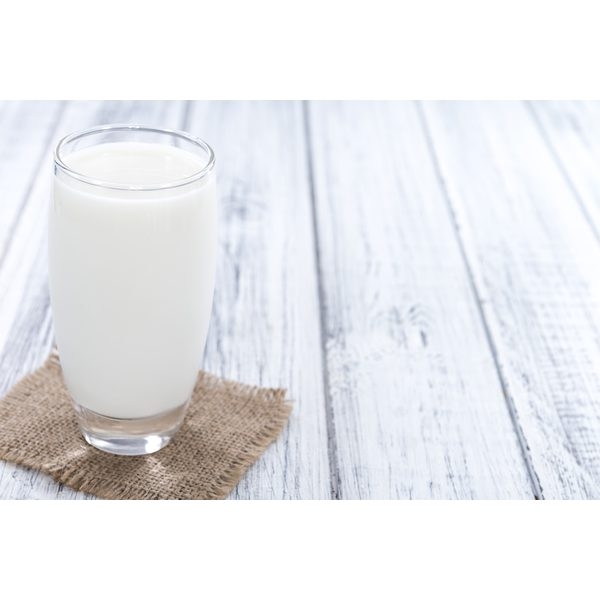glass of milk: (50, 123, 209, 461)
